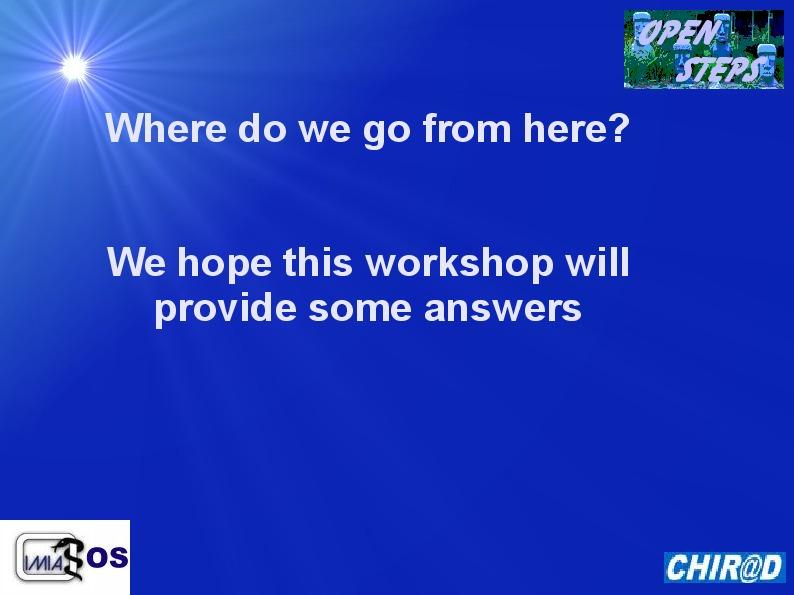title: (88, 90, 681, 372)
